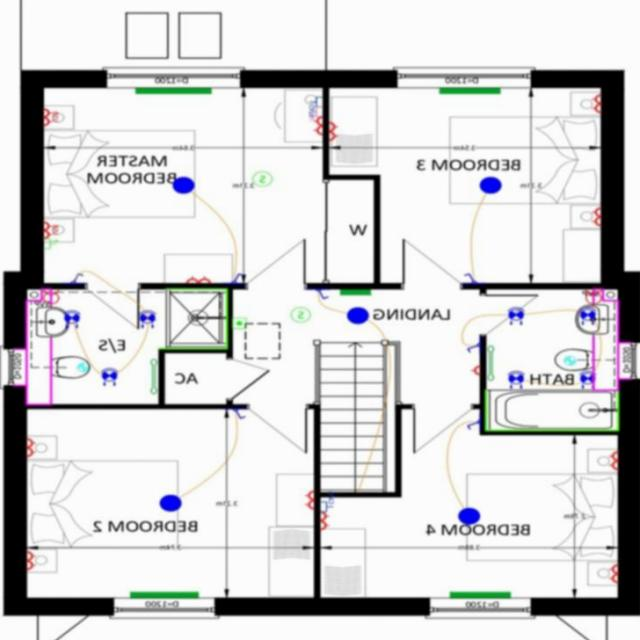Cat 6 Data Socket: (321, 489, 336, 511), (310, 96, 324, 115)
Ceiling Mounted Continuous Extract FanWith Boost Mode Activated By Light Switch: (78, 362, 90, 371), (565, 355, 577, 364)
Co-Ax TV Socket: (310, 106, 324, 120)
Double Socket: (187, 274, 212, 283), (330, 121, 340, 141), (609, 562, 619, 582), (314, 116, 324, 135), (593, 206, 602, 227), (593, 94, 602, 114), (306, 490, 315, 509), (28, 438, 37, 457), (610, 451, 619, 469), (28, 551, 36, 570), (321, 512, 330, 528)
Full Height Tiling: (485, 390, 621, 430), (160, 287, 229, 349)
Light Switch: (468, 342, 481, 353), (468, 419, 481, 430), (317, 288, 330, 298), (72, 273, 85, 282), (235, 408, 246, 418), (465, 273, 477, 282), (233, 273, 243, 282)
Low Energy Downlighter: (509, 370, 527, 388), (509, 306, 526, 324), (580, 371, 598, 388), (102, 367, 119, 385), (140, 309, 156, 328), (65, 309, 81, 328), (581, 307, 597, 324)
Low Energy Pendant Light: (161, 494, 183, 511), (459, 507, 481, 524), (173, 176, 196, 192), (480, 176, 503, 192), (348, 307, 370, 323)
Mains Wired Smoke Detector: (254, 170, 274, 186), (292, 306, 311, 321)
Programmable Room Thermostat: (234, 316, 247, 328)
Radiator: (130, 590, 200, 598), (136, 87, 213, 93), (450, 592, 512, 598), (440, 87, 501, 93), (341, 288, 372, 294)
Shaver Socket: (586, 288, 602, 307), (44, 288, 60, 307)
Single Socket: (472, 365, 481, 374)
USB Double Socket: (45, 107, 60, 125), (45, 221, 59, 237)
